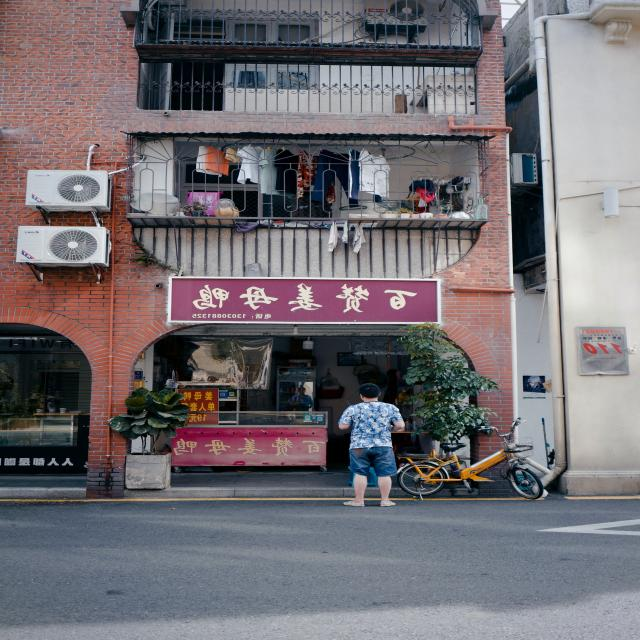adult: (335, 382, 407, 507)
